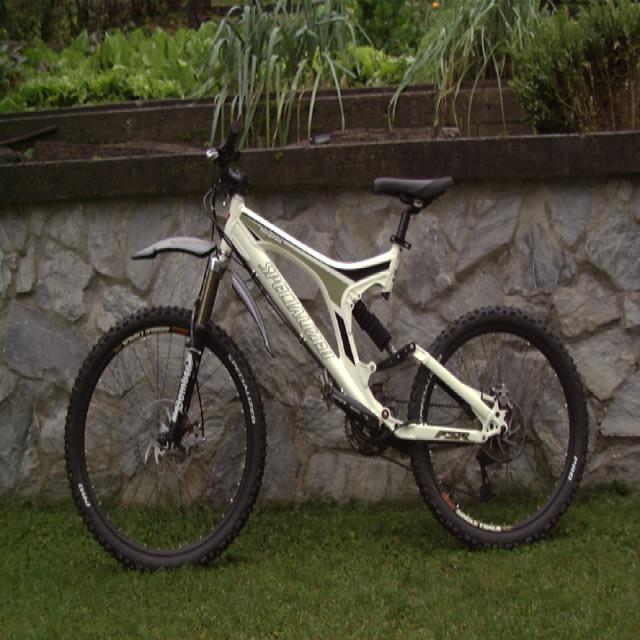bicycle: (62, 117, 590, 571)
